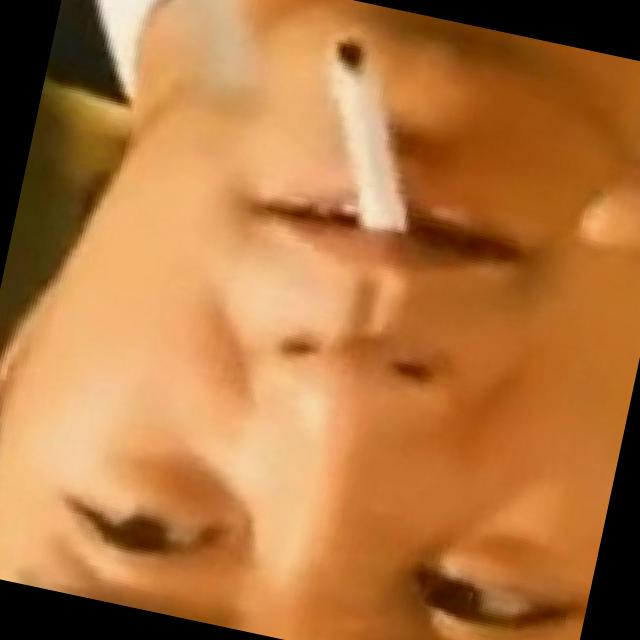smoke: (292, 38, 452, 242)
